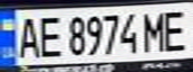4: (118, 9, 142, 55)
7: (100, 11, 121, 55)
8: (63, 12, 87, 56)
9: (84, 11, 106, 56)
A: (12, 13, 42, 60)
E: (160, 6, 193, 53), (33, 12, 63, 59)
M: (139, 8, 172, 53)
